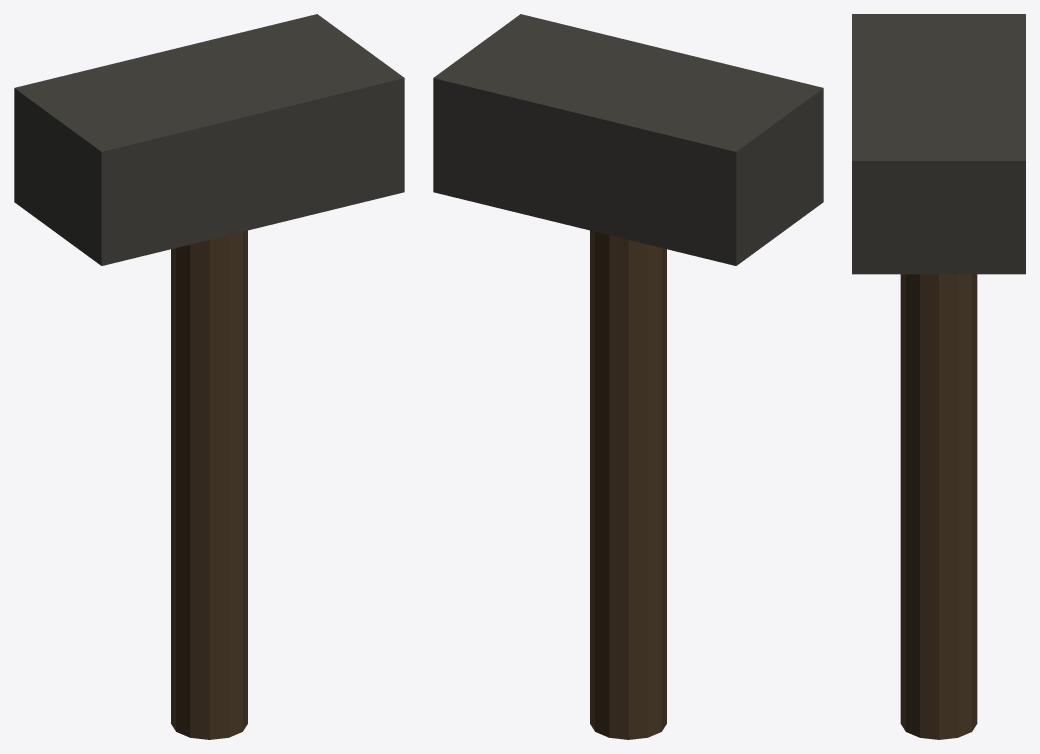
Rendered from hatchet_tool_blockout.obj.
The picture shows the model from 3 angles, left to right: view 1: azimuth 30°, elevation 25°; view 2: azimuth 150°, elevation 25°; view 3: azimuth 270°, elevation 25°; orthographic projection.
Size of the model in its own units: 0.5 by 1.01 by 0.25.
